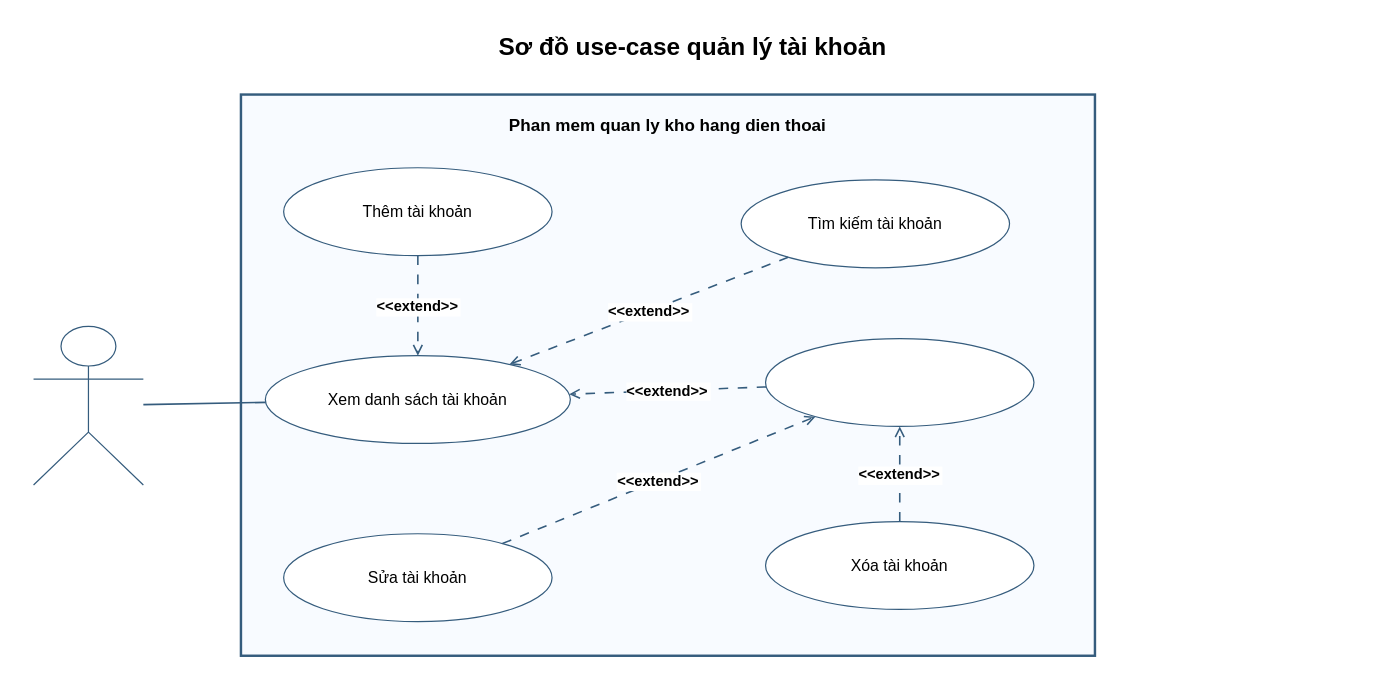
Image size: 1383x677. Some labels were removed from this diagram. The centre of each missing label's shape, as x and y in pixels:
Quản lý kho: [87,405]
Xem chi tiết tài khoản: [899,381]
